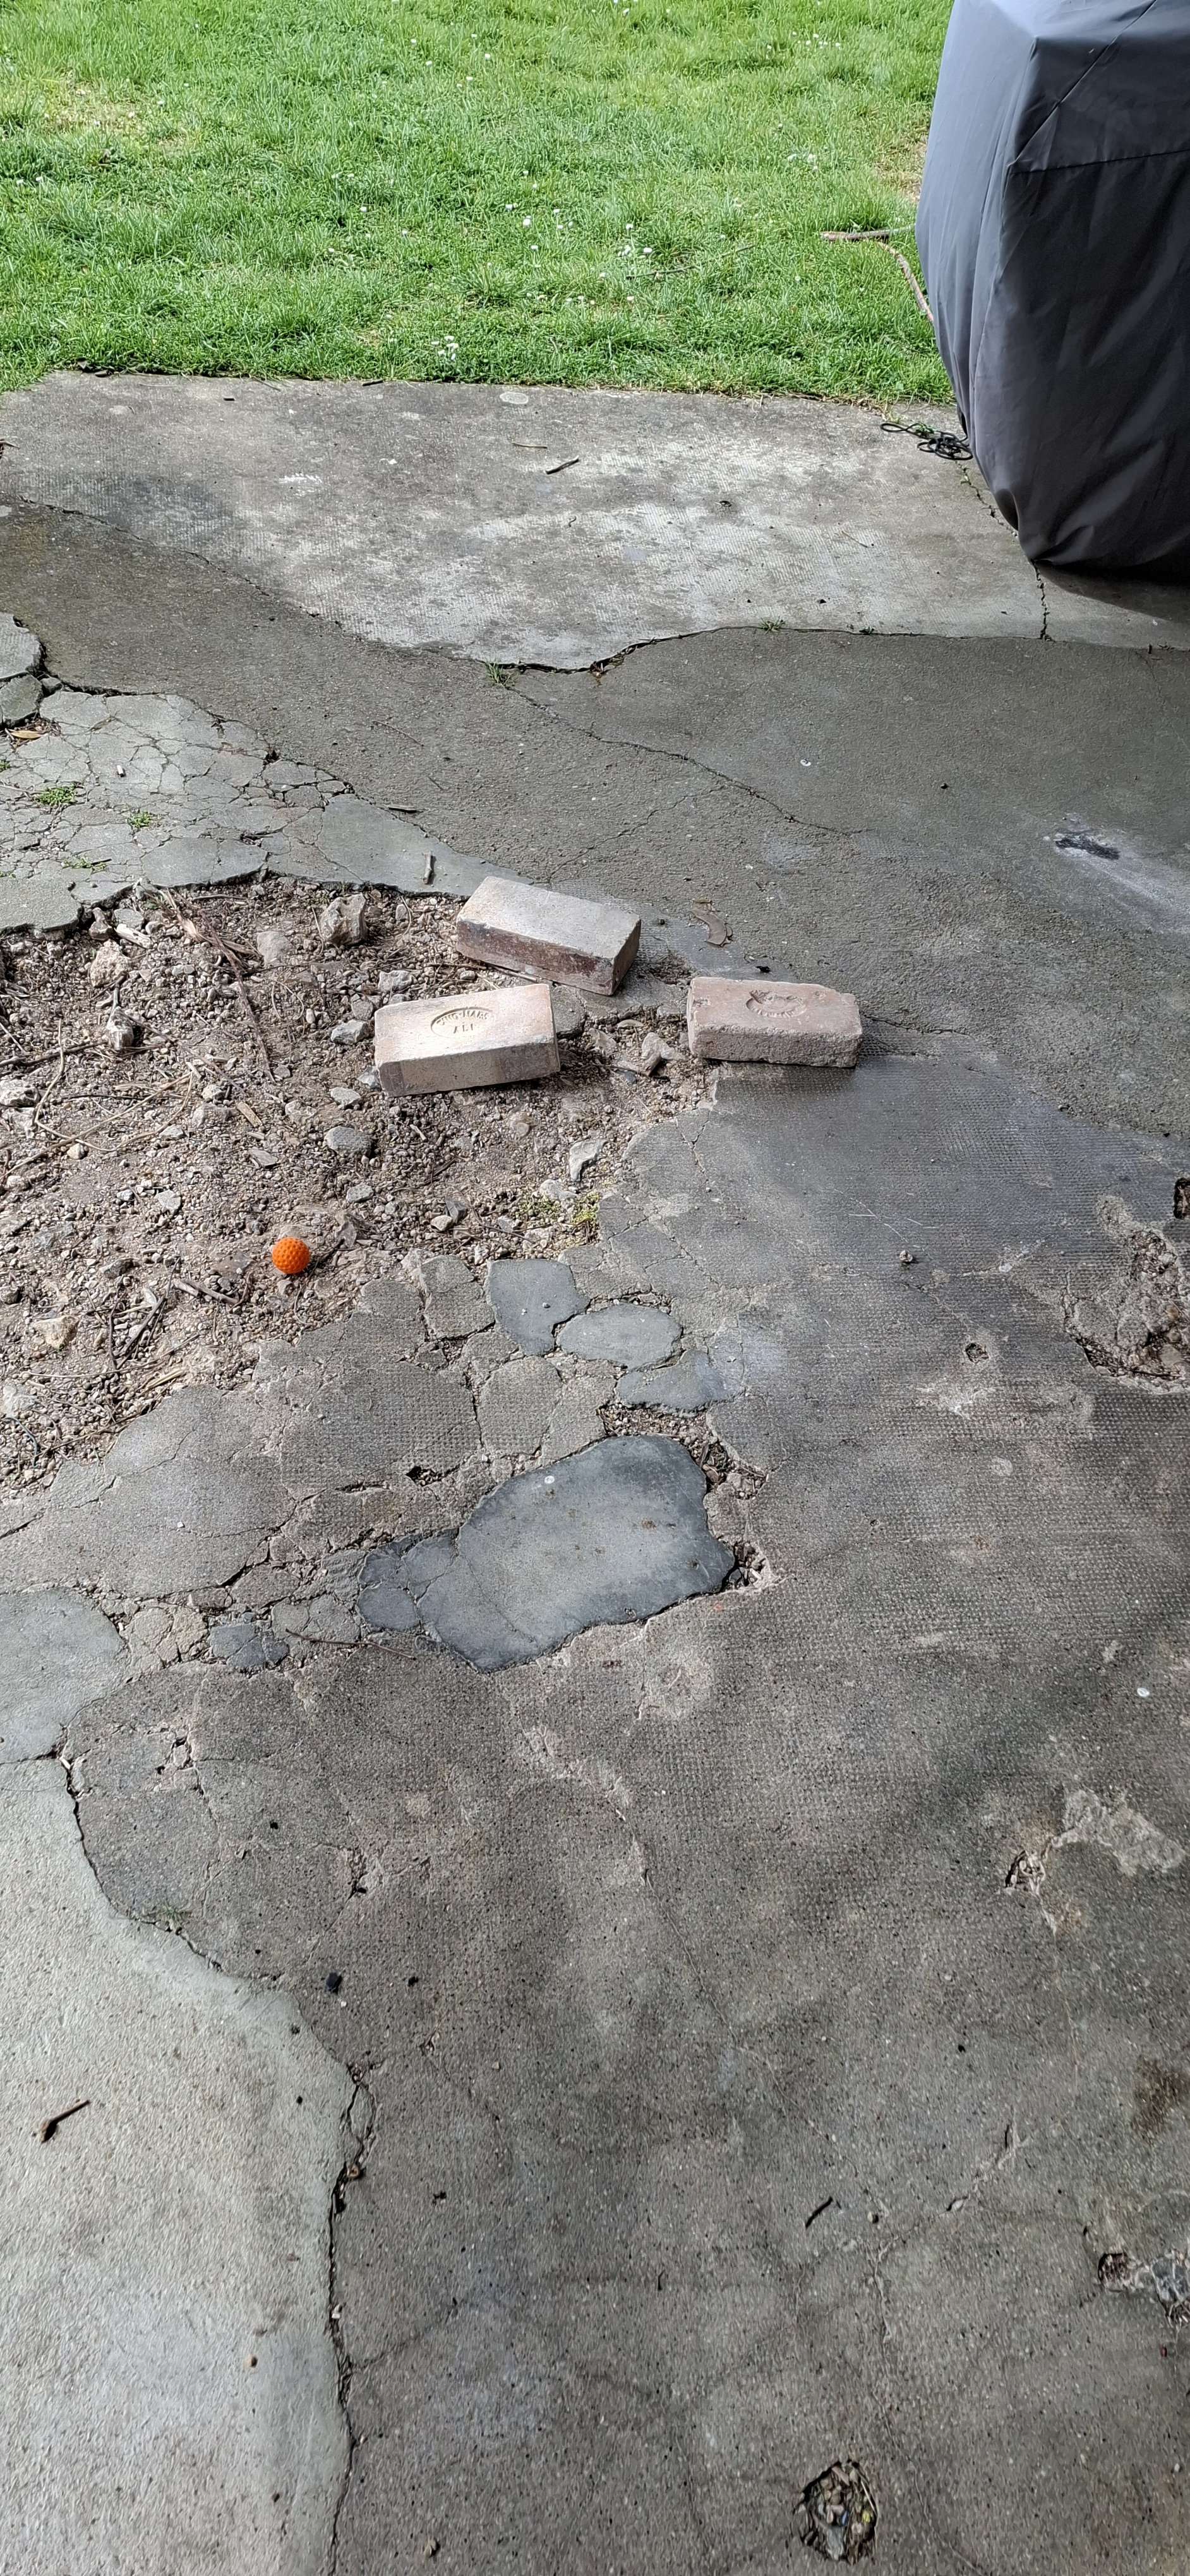ball: (570, 1904, 588, 1988)
